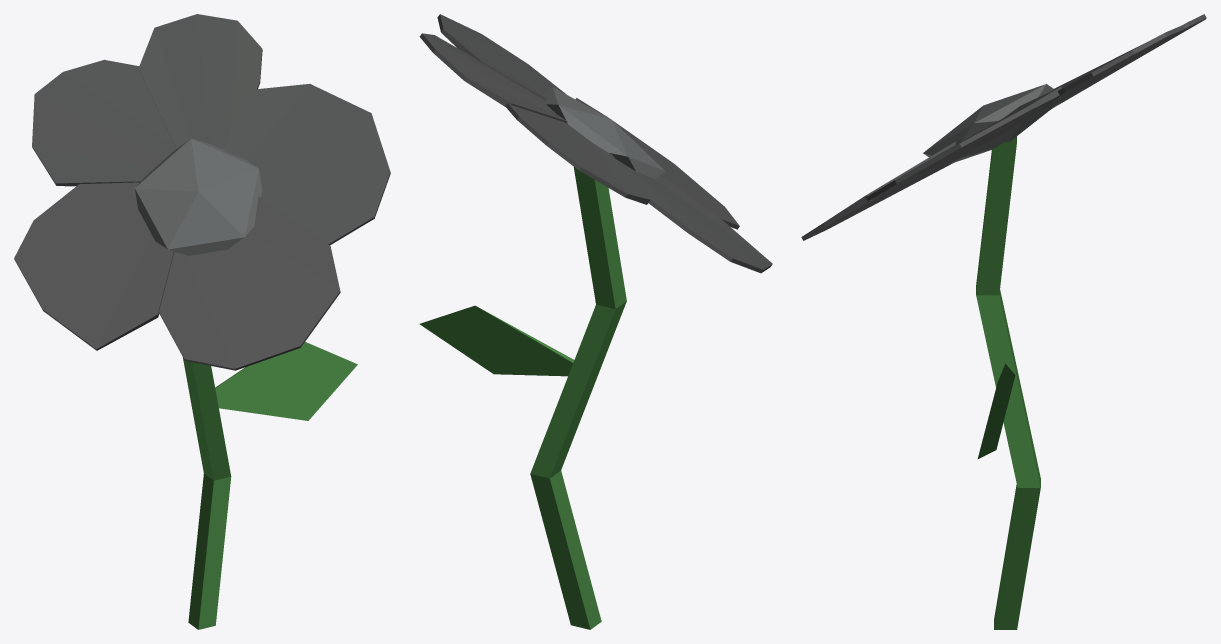
Rendered from Flower_2_Gray.fbx.
3 renders of one model, left to right at view 1: azimuth 30°, elevation 25°; view 2: azimuth 150°, elevation 25°; view 3: azimuth 270°, elevation 25°, orthographic. The views are drawn at different scales.
Parts seen in each view (by area): view 1: Flower_2_Gray_Part_2, Flower_2_Gray_Part_1, Flower_2_Gray_Part_3; view 2: Flower_2_Gray_Part_1, Flower_2_Gray_Part_2, Flower_2_Gray_Part_3; view 3: Flower_2_Gray_Part_1, Flower_2_Gray_Part_2, Flower_2_Gray_Part_3.
Boxes of the visible parts, x1=… form: Flower_2_Gray_Part_2: x1=14, y1=14, x2=390, y2=370; Flower_2_Gray_Part_1: x1=183, y1=342, x2=357, y2=629; Flower_2_Gray_Part_3: x1=135, y1=138, x2=262, y2=255; Flower_2_Gray_Part_1: x1=419, y1=167, x2=626, y2=629; Flower_2_Gray_Part_2: x1=419, y1=14, x2=772, y2=273; Flower_2_Gray_Part_3: x1=543, y1=87, x2=664, y2=178; Flower_2_Gray_Part_1: x1=976, y1=136, x2=1040, y2=629; Flower_2_Gray_Part_2: x1=801, y1=14, x2=1206, y2=240; Flower_2_Gray_Part_3: x1=923, y1=84, x2=1054, y2=163.
Size of the model in its own units: 17.91 by 29.92 by 17.47.
